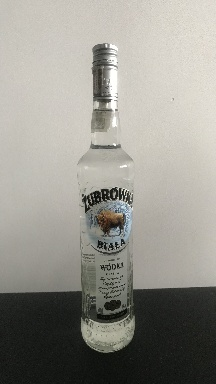butelka: (75, 40, 136, 356)
